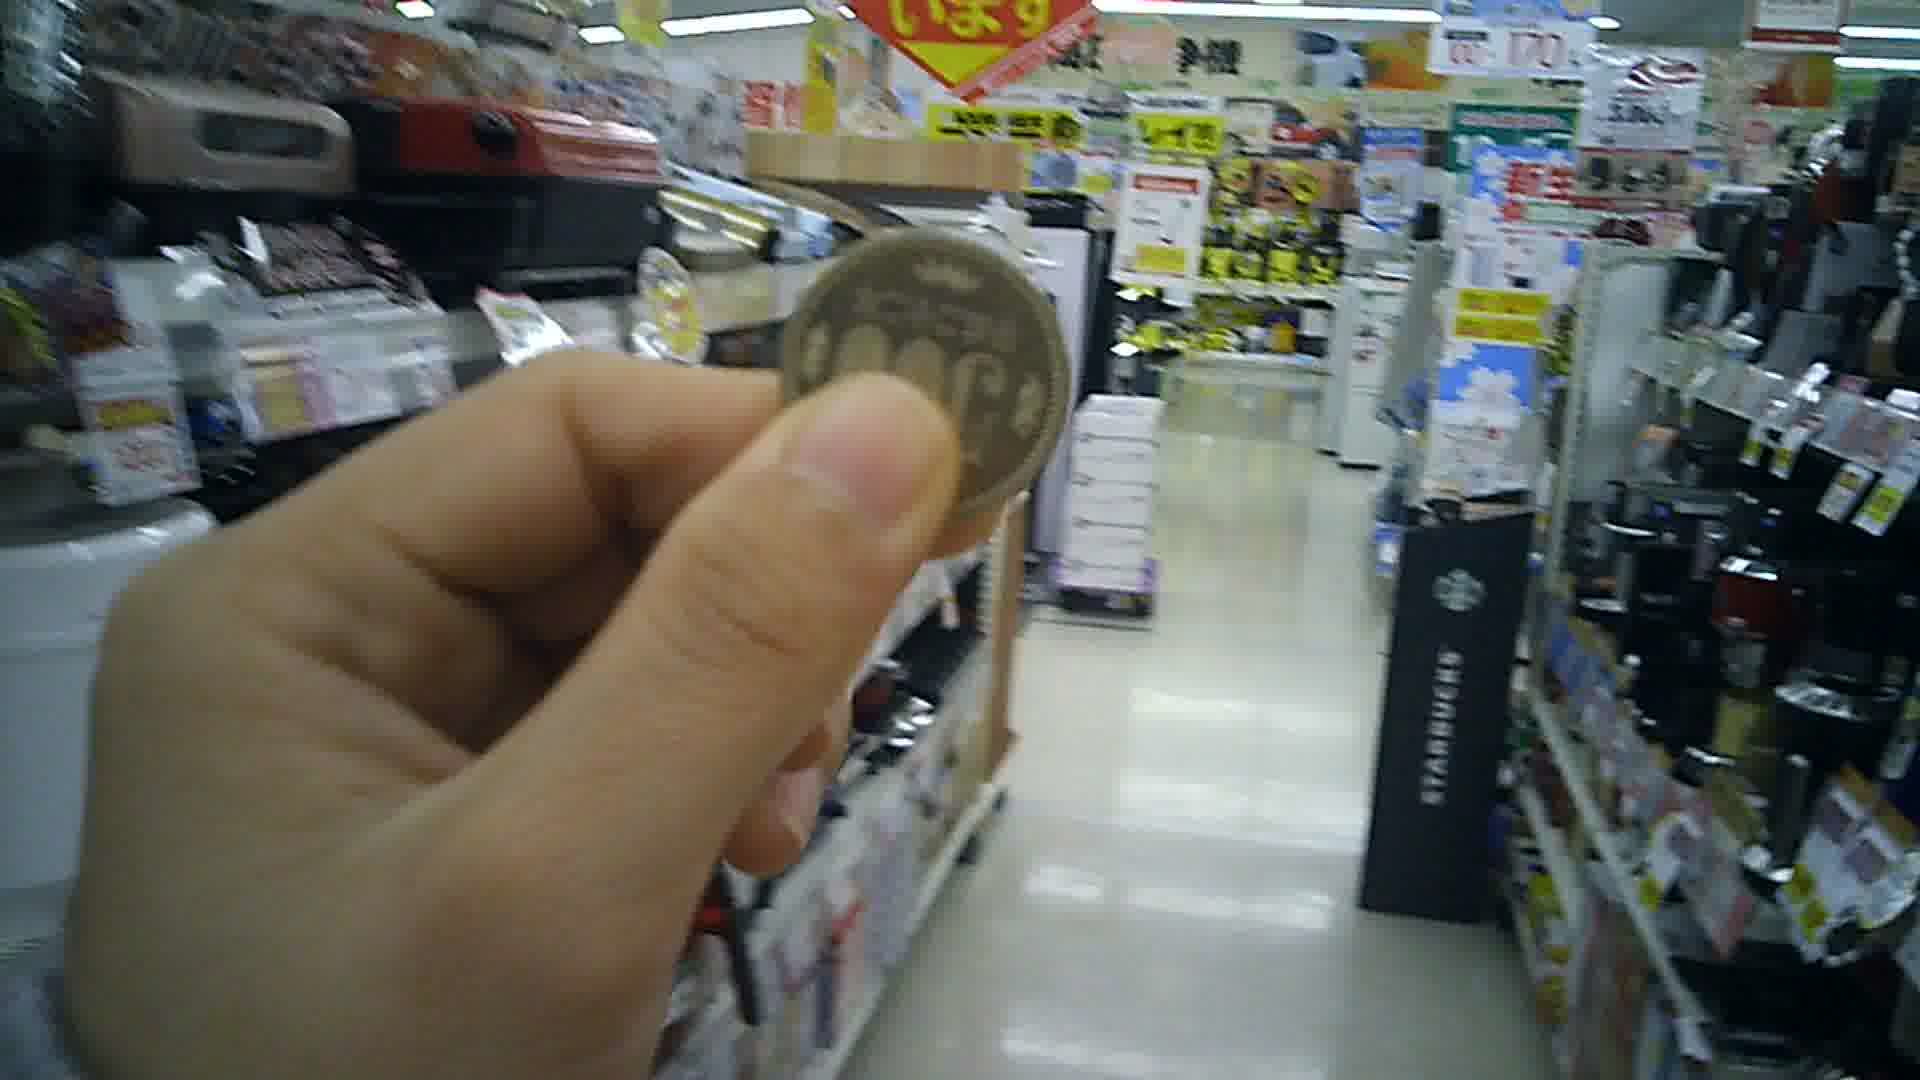500 Yen: (774, 218, 1073, 527)
